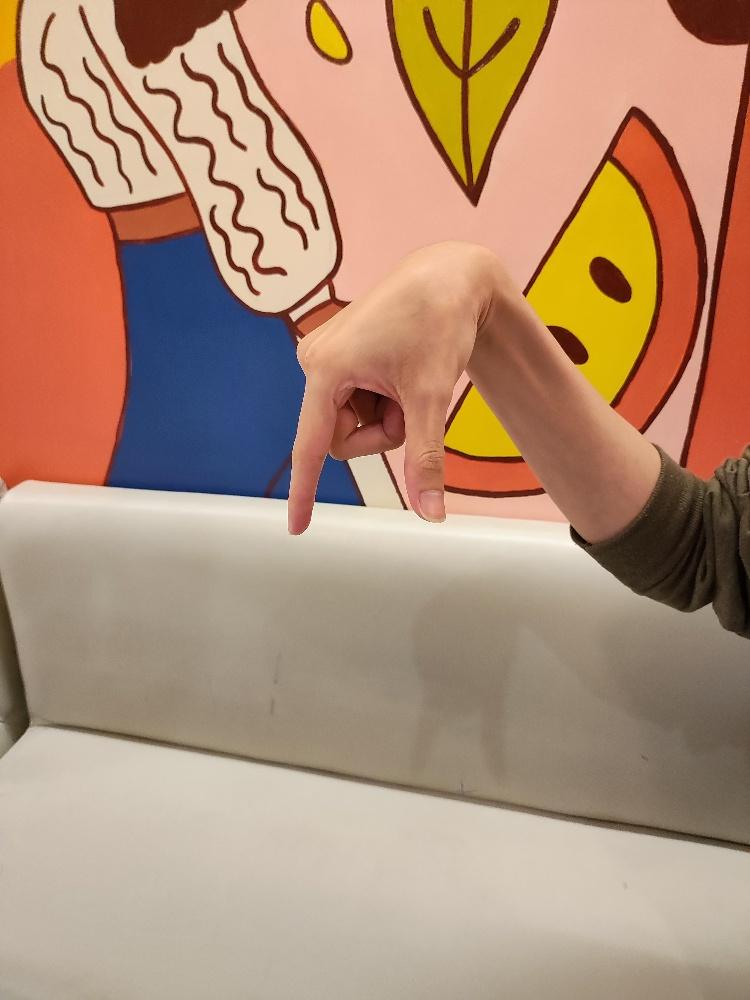q: (282, 235, 487, 537)
